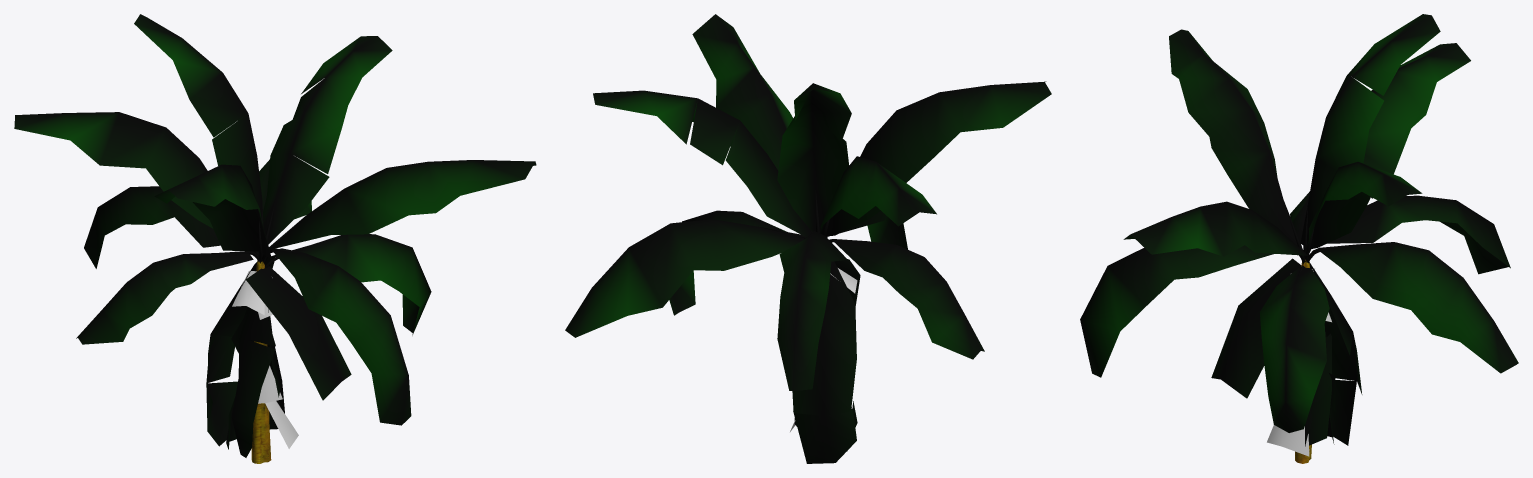
File: Banana_Tree01_afsTREE_xlprl.fbx
The picture shows the model from 3 angles, left to right: view 1: azimuth 30°, elevation 25°; view 2: azimuth 150°, elevation 25°; view 3: azimuth 270°, elevation 25°; orthographic projection. The views are drawn at different scales.
Parts seen in each view (by area): view 1: branch11_xw05_xt05_xlp20_xp07, branch07_xw02_xt03_xlp20_xp18, branch05_xw02_xt04_xp04, branch10_xw02_xt04_xlp20_xp14, branch09_xw05_xt06_xlp15, branch04_xw02_xt06_xp12, branch06_xw05_xt05_xlp13_xp20, branch08_xw03_xt05_xp06, branch12_xw03_xt06_xp08_xlp20, branch03_xw02_xt04_xlp20_xp09, branch16_xw01_xt01_xlp00_xp12, branch13_xw01_xt02_xlp01 (+4 smaller); view 2: branch02_xw05_xt05_xp04, branch08_xw03_xt05_xp06, branch11_xw05_xt05_xlp20_xp07, branch13_xw01_xt02_xlp01, branch09_xw05_xt06_xlp15, branch03_xw02_xt04_xlp20_xp09, branch04_xw02_xt06_xp12, branch07_xw02_xt03_xlp20_xp18, branch10_xw02_xt04_xlp20_xp14, branch06_xw05_xt05_xlp13_xp20, branch05_xw02_xt04_xp04; view 3: branch02_xw05_xt05_xp04, branch08_xw03_xt05_xp06, branch06_xw05_xt05_xlp13_xp20, branch09_xw05_xt06_xlp15, branch05_xw02_xt04_xp04, branch07_xw02_xt03_xlp20_xp18, branch10_xw02_xt04_xlp20_xp14, branch03_xw02_xt04_xlp20_xp09, branch11_xw05_xt05_xlp20_xp07, branch12_xw03_xt06_xp08_xlp20, branch13_xw01_xt02_xlp01, branch17_xw01_xt01_xlp00 (+2 smaller).
Part boxes in pixels (bbox=[...]): branch11_xw05_xt05_xlp20_xp07: bbox=[263, 36, 392, 244]; branch07_xw02_xt03_xlp20_xp18: bbox=[262, 160, 536, 263]; branch05_xw02_xt04_xp04: bbox=[262, 248, 411, 425]; branch10_xw02_xt04_xlp20_xp14: bbox=[14, 112, 258, 254]; branch09_xw05_xt06_xlp15: bbox=[134, 14, 263, 253]; branch04_xw02_xt06_xp12: bbox=[76, 251, 259, 344]; branch06_xw05_xt05_xlp13_xp20: bbox=[265, 234, 431, 335]; branch08_xw03_xt05_xp06: bbox=[154, 164, 271, 263]; branch12_xw03_xt06_xp08_xlp20: bbox=[246, 266, 351, 400]; branch03_xw02_xt04_xlp20_xp09: bbox=[84, 186, 258, 268]; branch16_xw01_xt01_xlp00_xp12: bbox=[231, 307, 275, 457]; branch13_xw01_xt02_xlp01: bbox=[206, 255, 275, 446]; branch02_xw05_xt05_xp04: bbox=[565, 219, 805, 337]; branch08_xw03_xt05_xp06: bbox=[826, 81, 1051, 237]; branch11_xw05_xt05_xlp20_xp07: bbox=[593, 90, 812, 237]; branch13_xw01_xt02_xlp01: bbox=[792, 261, 856, 463]; branch09_xw05_xt06_xlp15: bbox=[777, 83, 851, 233]; branch03_xw02_xt04_xlp20_xp09: bbox=[777, 231, 847, 390]; branch04_xw02_xt06_xp12: bbox=[829, 239, 984, 359]; branch07_xw02_xt03_xlp20_xp18: bbox=[692, 14, 793, 170]; branch10_xw02_xt04_xlp20_xp14: bbox=[820, 156, 936, 236]; branch06_xw05_xt05_xlp13_xp20: bbox=[669, 210, 786, 315]; branch05_xw02_xt04_xp04: bbox=[867, 216, 907, 249]; branch02_xw05_xt05_xp04: bbox=[1306, 242, 1518, 373]; branch08_xw03_xt05_xp06: bbox=[1169, 29, 1303, 250]; branch06_xw05_xt05_xlp13_xp20: bbox=[1259, 265, 1329, 432]; branch09_xw05_xt06_xlp15: bbox=[1300, 14, 1440, 257]; branch05_xw02_xt04_xp04: bbox=[1080, 245, 1300, 377]; branch07_xw02_xt03_xlp20_xp18: bbox=[1123, 201, 1308, 264]; branch10_xw02_xt04_xlp20_xp14: bbox=[1363, 43, 1470, 174]; branch03_xw02_xt04_xlp20_xp09: bbox=[1309, 195, 1510, 274]; branch11_xw05_xt05_xlp20_xp07: bbox=[1305, 162, 1422, 260]; branch12_xw03_xt06_xp08_xlp20: bbox=[1211, 258, 1301, 398]; branch13_xw01_xt02_xlp01: bbox=[1309, 262, 1362, 445]; branch17_xw01_xt01_xlp00: bbox=[1305, 331, 1331, 446].
Bounding box in the file's own units: 3.69 × 3.84 × 3.67.
